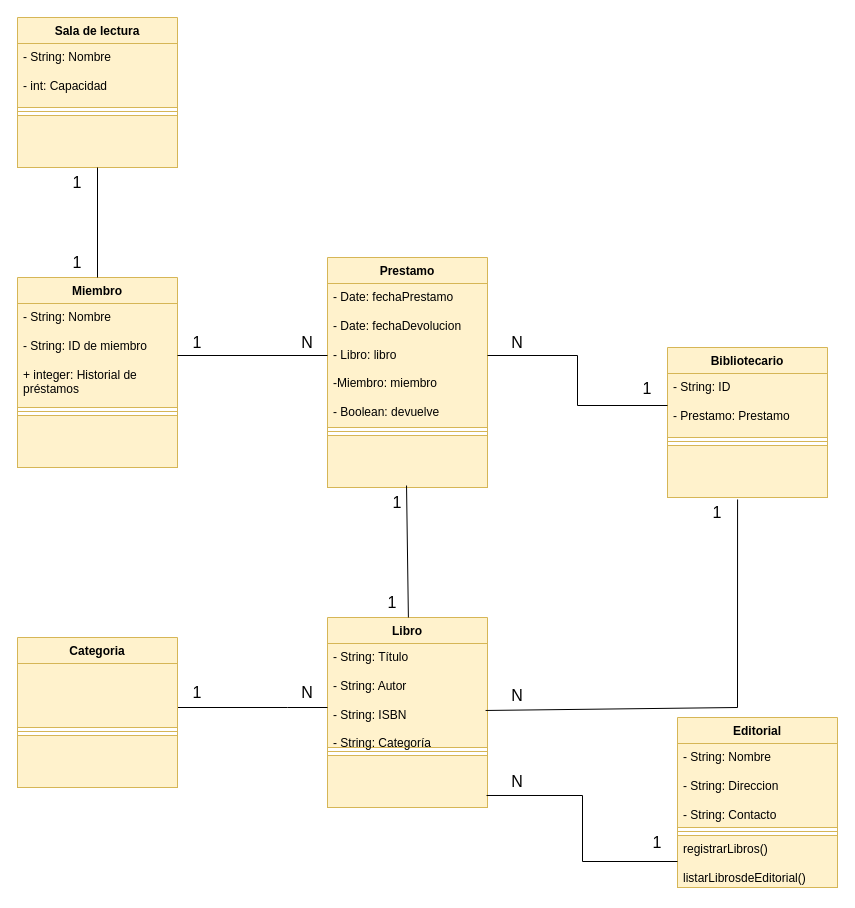
This 855x908 diagram has some shape labels left out. Each missing label, with the centre of its shape:
- String: nombre - String: descripcion: pixel 97 695
agregarCategoría() asignarCategorías (): pixel 97 761
calcularMultaPorRetraso () marcaComoDevuelto (): pixel 407 461
registrarMiembro () verHistorial (): pixel 97 441
registroLibros() gestionarPrestamo(): pixel 747 471
reservarLibros() verificarDisponibilidad(): pixel 97 141
verificarDisponibilidad asignarCategorías: pixel 407 781
